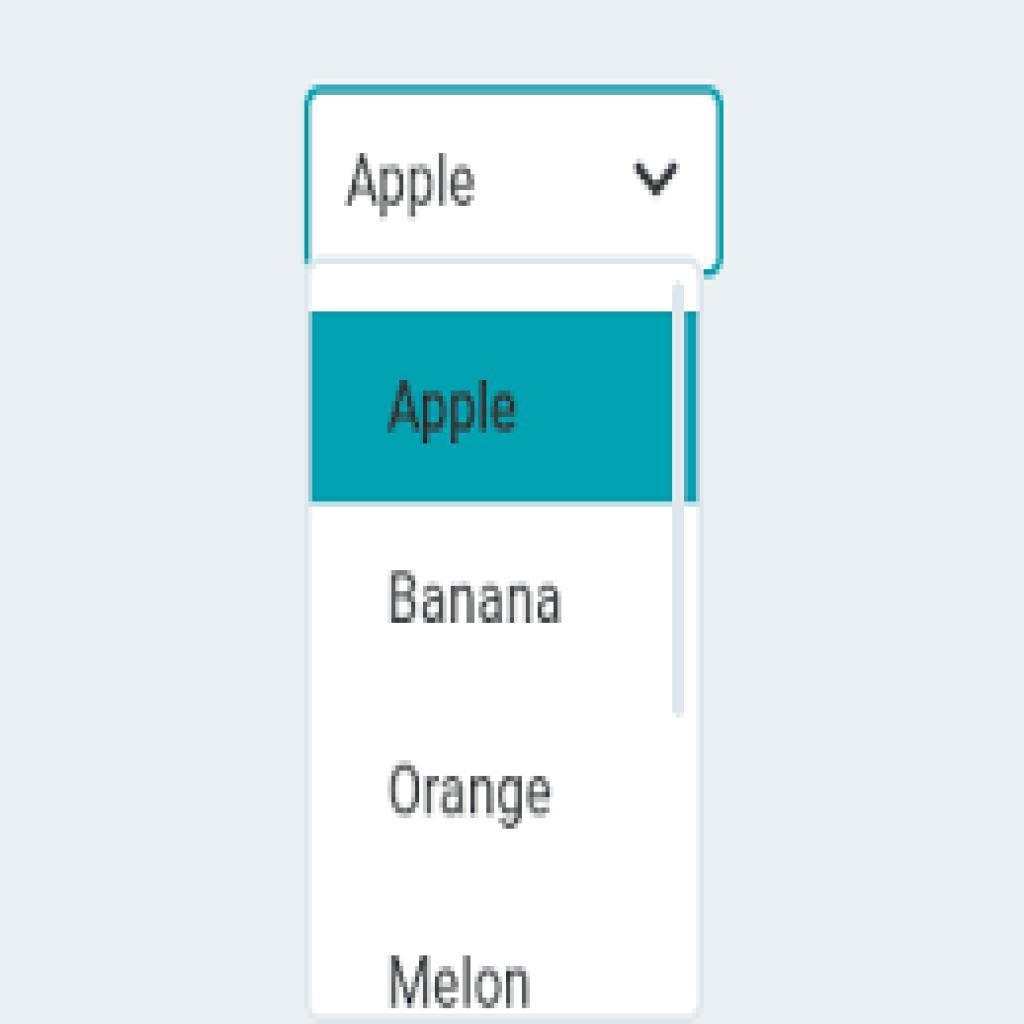button: (310, 312, 695, 502)
dropdown: (308, 89, 719, 266)
label: (391, 754, 560, 837), (382, 564, 568, 633), (391, 948, 537, 1013)
